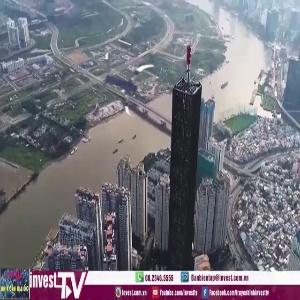drone: (96, 54, 161, 119)
